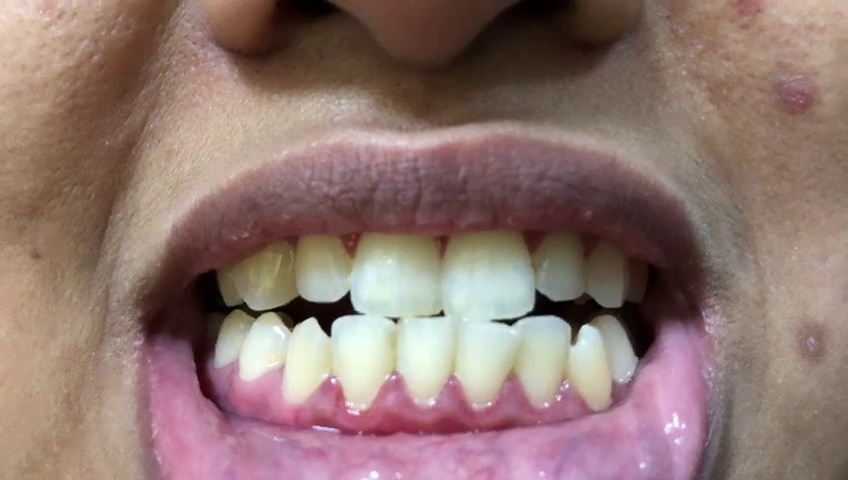1st Premolar: (238, 311, 290, 382), (601, 316, 640, 385)
2nd Premolar: (216, 309, 250, 370)
Canine: (234, 237, 296, 310), (283, 314, 330, 408), (570, 322, 612, 412), (588, 230, 627, 309)
Central Incisor: (444, 211, 537, 319), (350, 213, 444, 317), (456, 318, 518, 414), (396, 319, 455, 411)
Lateral Incisor: (330, 316, 398, 414), (515, 314, 571, 411), (293, 228, 351, 302), (533, 225, 585, 299)
